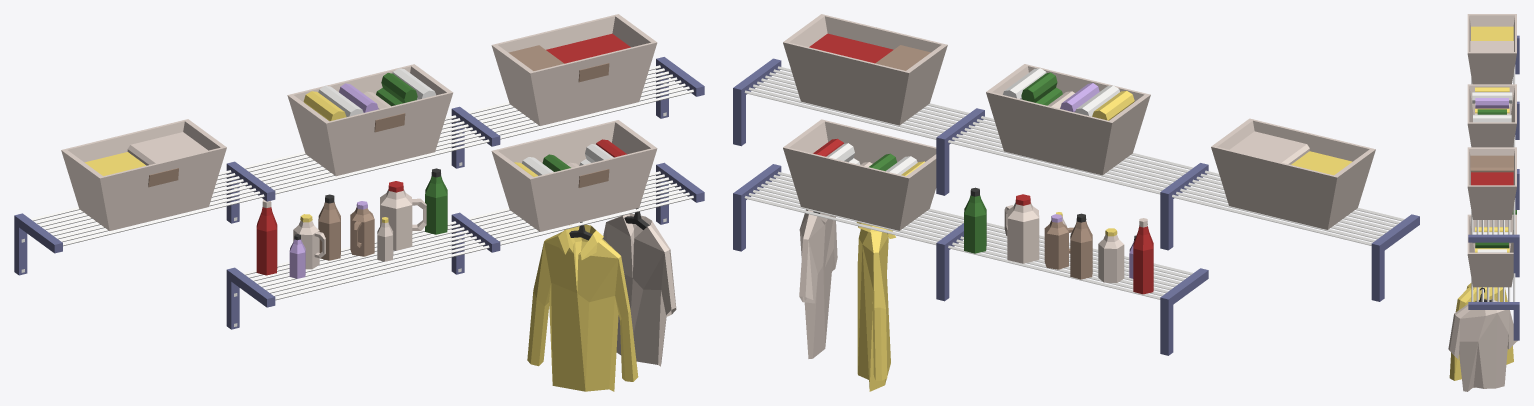
The model's file is Laundry_shelf_with_things_3.fbx.
3 views of the same model, side by side, from view 1: azimuth 30°, elevation 25°; view 2: azimuth 150°, elevation 25°; view 3: azimuth 270°, elevation 25° (orthographic). The views are drawn at different scales.
Parts seen in each view (by area): view 1: Laundry_shelf_with_things_3; view 2: Laundry_shelf_with_things_3; view 3: Laundry_shelf_with_things_3.
Part boxes in pixels (x1,y1,x2,y2): Laundry_shelf_with_things_3: (14, 14, 704, 391); Laundry_shelf_with_things_3: (733, 14, 1419, 391); Laundry_shelf_with_things_3: (1448, 14, 1519, 391).
Bounding box in the file's own units: 448 × 66.96 × 229.
